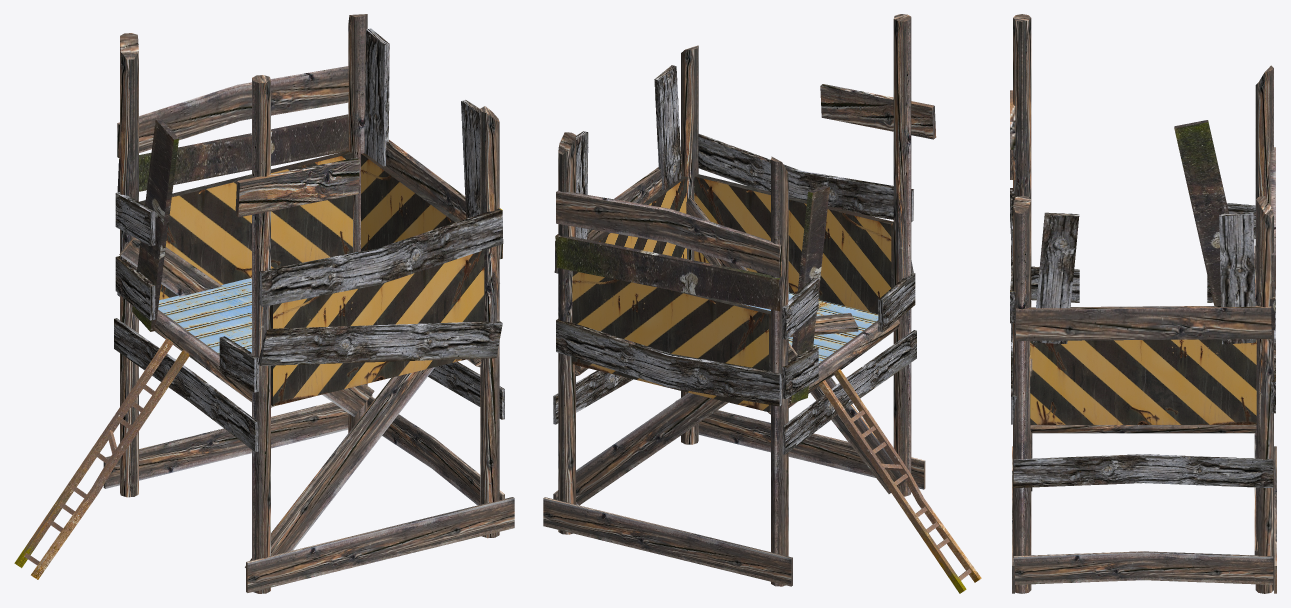
File: watchtower_02.fbx
The picture shows the model from 3 angles, left to right: view 1: azimuth 30°, elevation 25°; view 2: azimuth 150°, elevation 25°; view 3: azimuth 270°, elevation 25°; orthographic projection. The views are drawn at different scales.
Parts seen in each view (by area): view 1: watchtower_02; view 2: watchtower_02; view 3: watchtower_02.
Part boxes in pixels (x1,y1,x2,y2): watchtower_02: [14, 14, 514, 593]; watchtower_02: [543, 14, 981, 593]; watchtower_02: [1010, 14, 1276, 593].
Size of the model in its own units: 4.84 by 5.9 by 3.01.
